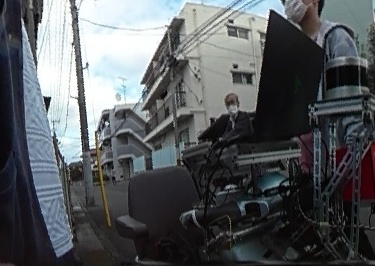person: (277, 0, 362, 82), (211, 90, 252, 144)
